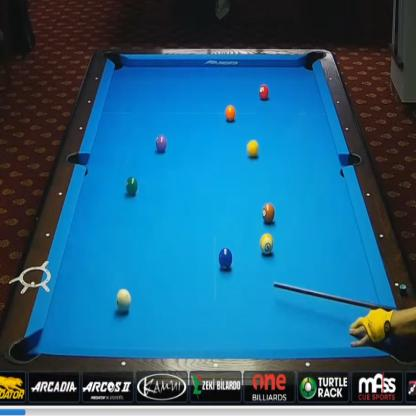Ball: (116, 288, 131, 314), (259, 233, 274, 256), (218, 248, 233, 270), (262, 203, 276, 224), (126, 176, 138, 196), (247, 140, 259, 158), (155, 135, 167, 152), (225, 105, 236, 122), (259, 84, 269, 100)
